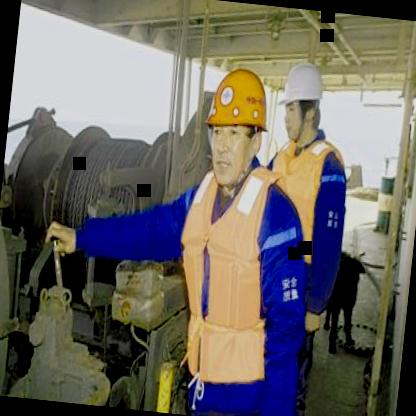helmet: (193, 59, 275, 193), (270, 51, 332, 152)
